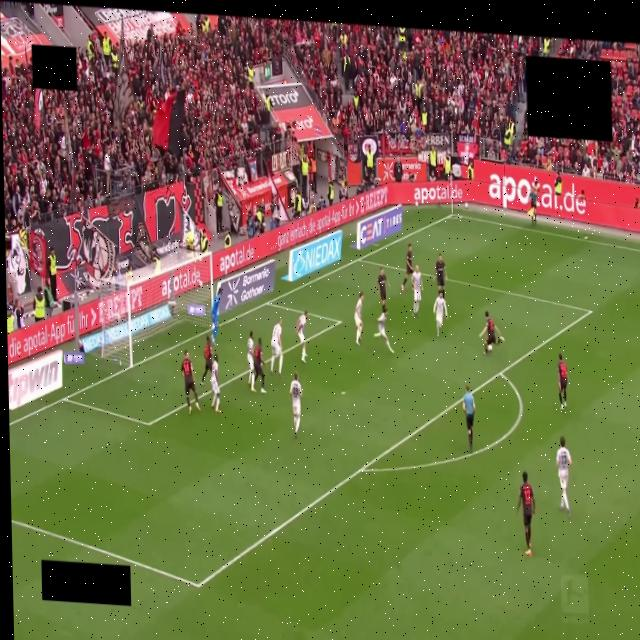player: (517, 472, 535, 556), (556, 437, 571, 516), (181, 350, 199, 413), (479, 311, 504, 354), (374, 306, 393, 353), (251, 338, 265, 393), (290, 372, 301, 437), (271, 319, 283, 377), (433, 288, 447, 336), (296, 311, 308, 363), (557, 354, 568, 410), (201, 336, 213, 386), (212, 283, 221, 344), (211, 354, 220, 413), (435, 254, 447, 298), (402, 244, 413, 290), (412, 266, 422, 315), (378, 268, 389, 310), (354, 293, 363, 344), (247, 331, 254, 386)
referee: (462, 386, 475, 452)
